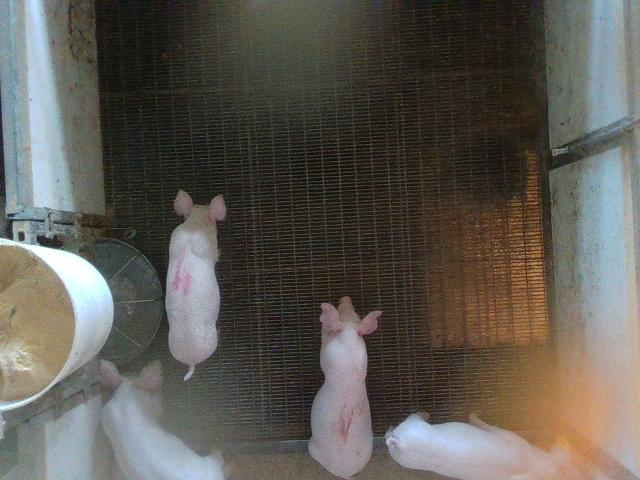pig-1: (309, 296, 381, 477)
pig-4: (165, 190, 226, 379)
